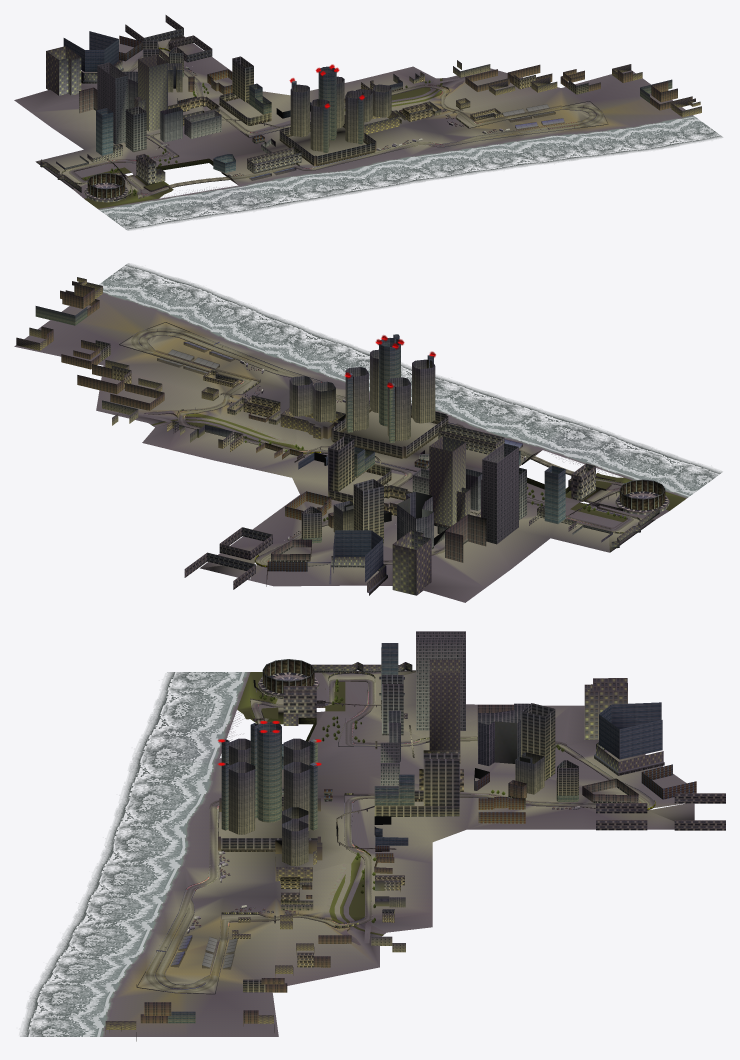
Rendered from mapa.glb.
3 views of the same model, one above another, from view 1: azimuth 30°, elevation 25°; view 2: azimuth 150°, elevation 25°; view 3: azimuth 270°, elevation 25° (orthographic). The views are drawn at different scales.
Visible parts, largest first — view 1: DC_Track02.007, textureBatch.005, DC_Track02.003, DC_Track23.001, DC_Track01.004, DC_Track23.004, DC_Track20.003, DC_Track21.005, DC_Track07.011, DC_Track03.012, DC_Towers005, DC_Track04.015 (+50 smaller); view 2: DC_Track02.007, DC_Track02.003, textureBatch.005, DC_Track01.004, DC_Track20.003, DC_Towers005.003, DC_Track21.005, DC_Towers005, DC_Track05.015, DC_Track12.011, DC_Track04.015, DC_Track03.012 (+44 smaller); view 3: DC_Track02.007, DC_Track02.003, DC_Track23.001, DC_Track01.004, DC_Track23.004, DC_Track07.011, DC_Track04.015, textureBatch.005, textureBatch, DC_Track20.003, DC_Track05.015, DC_Track21.005 (+44 smaller).
Part boxes in pixels (box(x1,y1,x2,y2)): DC_Track02.007: box(561, 70, 685, 132); textureBatch.005: box(290, 76, 364, 151); DC_Track02.003: box(583, 115, 722, 154); DC_Track23.001: box(380, 145, 512, 183); DC_Track01.004: box(483, 132, 613, 167); DC_Track23.004: box(341, 120, 482, 160); DC_Track20.003: box(159, 185, 269, 220); DC_Track21.005: box(239, 173, 341, 208); DC_Track07.011: box(211, 95, 339, 156); DC_Track03.012: box(424, 88, 561, 133); DC_Towers005: box(134, 54, 167, 131); DC_Track04.015: box(413, 68, 560, 119); DC_Track02.007: box(14, 294, 200, 365); DC_Track02.003: box(99, 263, 237, 328); textureBatch.005: box(345, 349, 435, 441); DC_Track01.004: box(201, 301, 331, 365); DC_Track20.003: box(543, 422, 659, 477); DC_Towers005.003: box(481, 443, 518, 544); DC_Track21.005: box(467, 398, 579, 449); DC_Towers005: box(429, 436, 470, 526); DC_Track05.015: box(98, 410, 283, 460); DC_Track12.011: box(383, 527, 510, 602); DC_Track04.015: box(96, 366, 247, 426); DC_Track03.012: box(104, 354, 289, 400); DC_Track02.007: box(105, 969, 278, 1036); DC_Track02.003: box(20, 969, 130, 1036); DC_Track23.001: box(79, 847, 190, 909); DC_Track01.004: box(46, 909, 163, 969); DC_Track23.004: box(164, 847, 287, 914); DC_Track07.011: box(308, 775, 432, 852); DC_Track04.015: box(273, 897, 379, 985); textureBatch.005: box(228, 738, 310, 834); textureBatch: box(221, 721, 317, 830); DC_Track20.003: box(132, 709, 244, 758); DC_Track05.015: box(275, 879, 432, 966); DC_Track21.005: box(119, 759, 219, 804).
Size of what is drawn, in the model's own units: 1685 by 233 by 1355.
37 materials, 37 textured.
